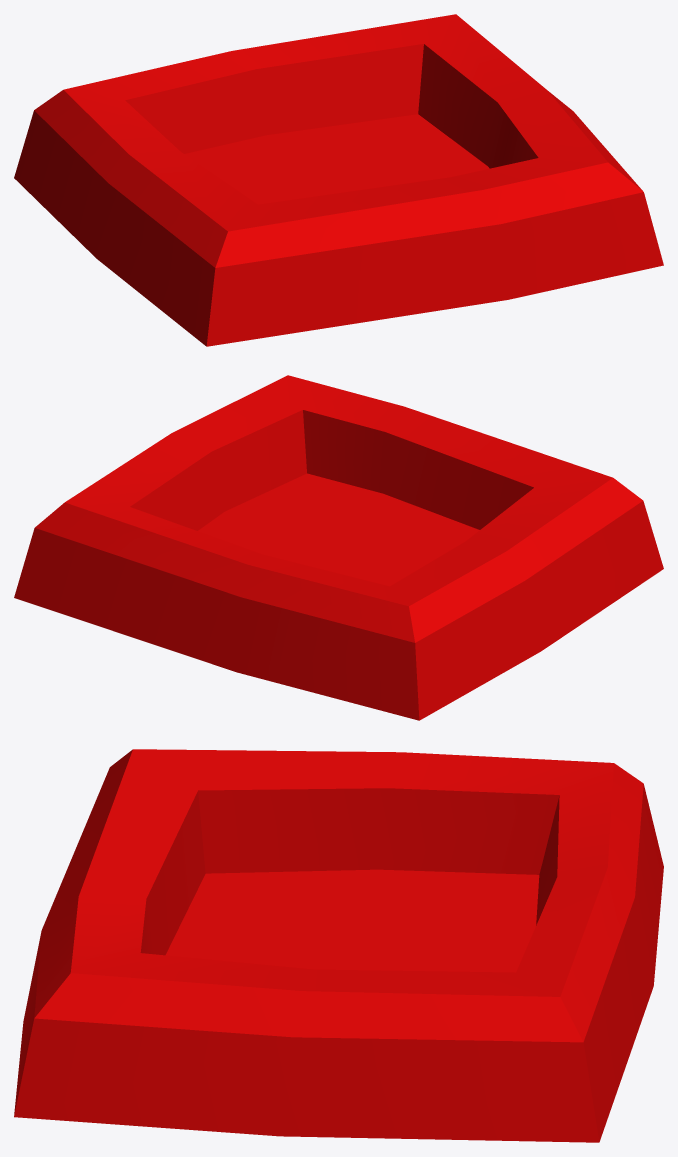
The model's file is Housekeeper.fbx.
3 renders of one model, top to bottom at view 1: azimuth 30°, elevation 25°; view 2: azimuth 150°, elevation 25°; view 3: azimuth 270°, elevation 25°, orthographic. The views are drawn at different scales.
Parts seen in each view (by area): view 1: Housekeeper; view 2: Housekeeper; view 3: Housekeeper.
Boxes of the visible parts, <box> form: Housekeeper: <box>14,14,663,346</box>; Housekeeper: <box>14,375,663,720</box>; Housekeeper: <box>14,749,663,1142</box>.
Size of the model in its own units: 24.34 by 4.74 by 22.76.
